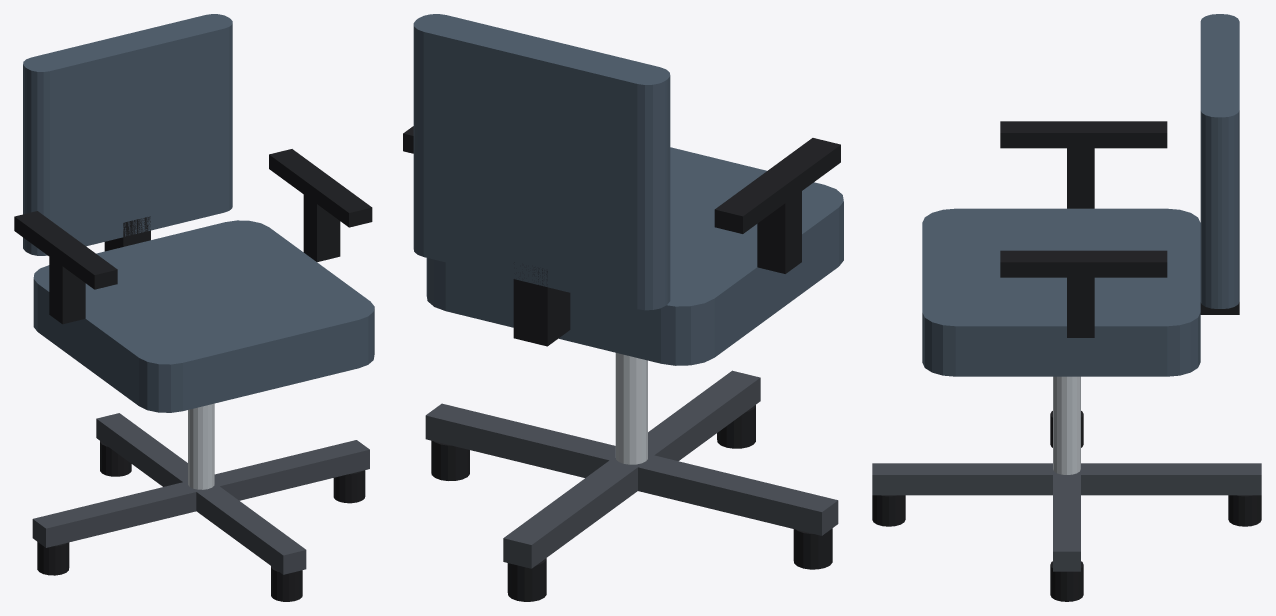
The model's file is office_chair.glb.
3 renders of one model, left to right at view 1: azimuth 30°, elevation 25°; view 2: azimuth 150°, elevation 25°; view 3: azimuth 270°, elevation 25°, orthographic. The views are drawn at different scales.
Visible parts, largest first — view 1: office_chair_Body; view 2: office_chair_Body; view 3: office_chair_Body.
Boxes of the visible parts, x1=… form: office_chair_Body: x1=14, y1=14, x2=374, y2=601; office_chair_Body: x1=403, y1=14, x2=843, y2=601; office_chair_Body: x1=872, y1=14, x2=1261, y2=601.
Size of the model in its own units: 0.7 by 0.9 by 0.7.
